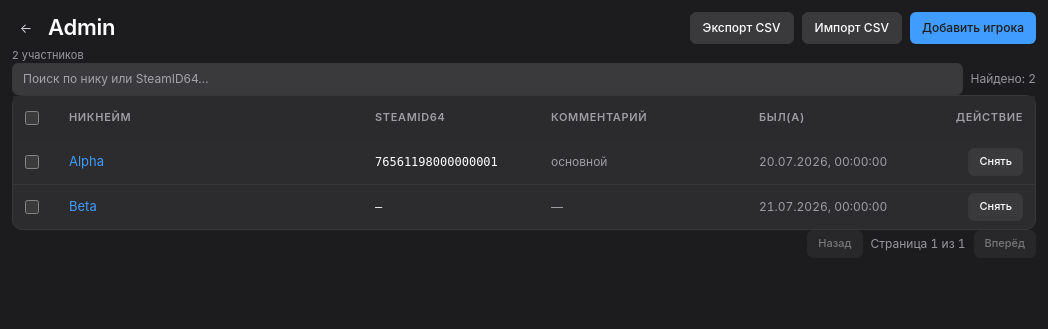
Test: MembersPage — branch coverage › surfaces an error when the export request fails
Expected: the link "Alpha" is shown, [69,153,104,169]
Click the button "Экспорт CSV" at x=742, y=28, box [690,12,794,44]
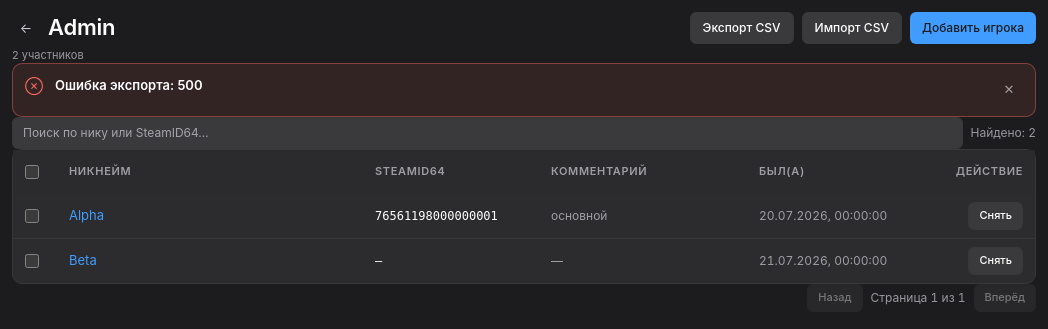
Result: the text "Ошибка экспорта: 500" is shown at [55,77,202,93]
